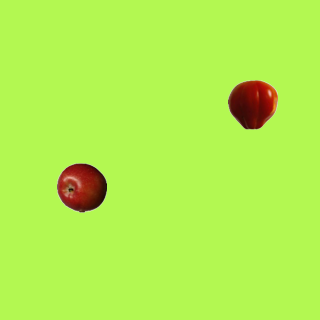Apple Braeburn: (56, 162, 106, 212)
Tomato 1: (227, 79, 277, 129)
